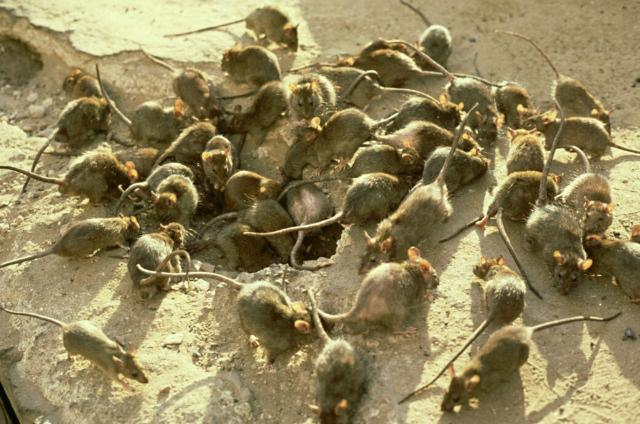rat: (4, 292, 158, 404), (352, 156, 456, 286), (429, 321, 547, 418), (0, 136, 148, 212), (326, 243, 442, 337), (16, 91, 118, 195), (209, 273, 317, 369), (514, 188, 600, 302), (1, 208, 149, 266), (300, 316, 378, 424), (528, 60, 624, 140), (163, 5, 307, 56), (461, 250, 539, 338), (122, 216, 198, 298), (436, 64, 520, 138), (118, 84, 205, 154), (136, 168, 210, 236), (280, 66, 348, 126), (194, 123, 248, 198), (210, 42, 292, 90)
